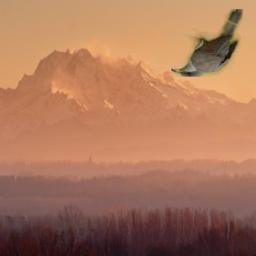Cuckoo: (170, 9, 242, 77)
